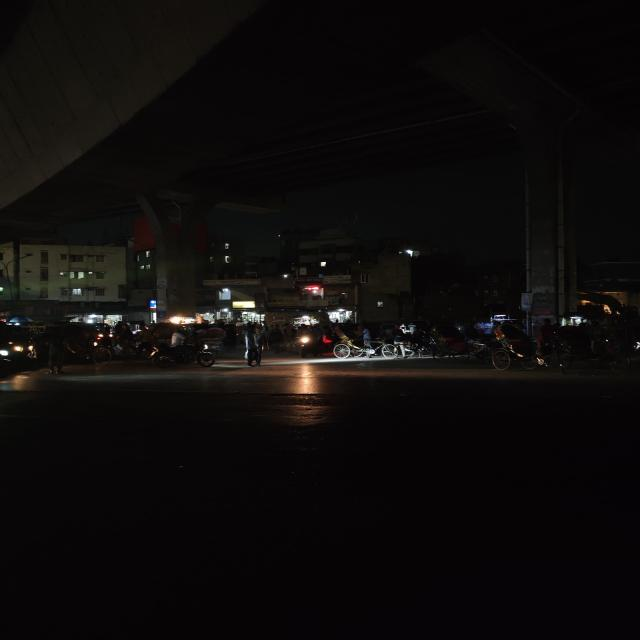bicycle: (238, 325, 269, 369)
cng: (0, 316, 39, 366)
motorcycle: (143, 333, 217, 373)
rickshaw: (498, 320, 576, 378), (414, 319, 492, 367), (332, 322, 408, 360), (49, 322, 111, 362)
